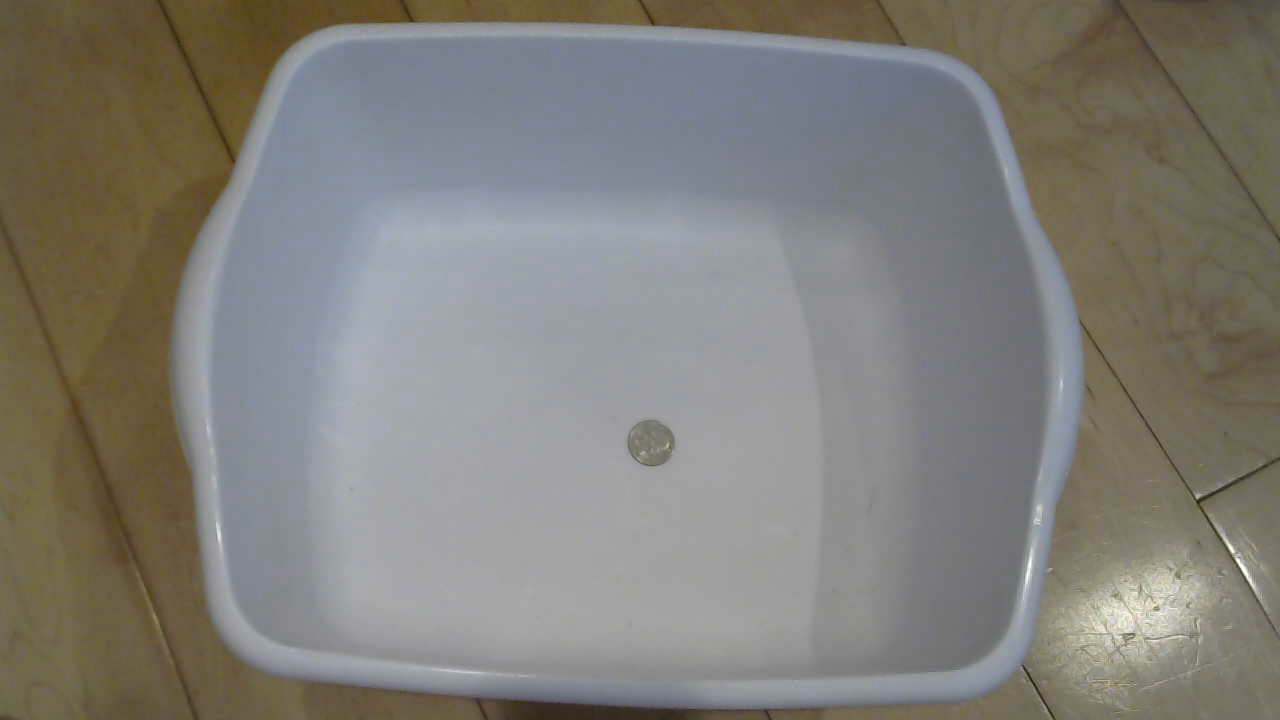coin: (630, 421, 694, 480)
